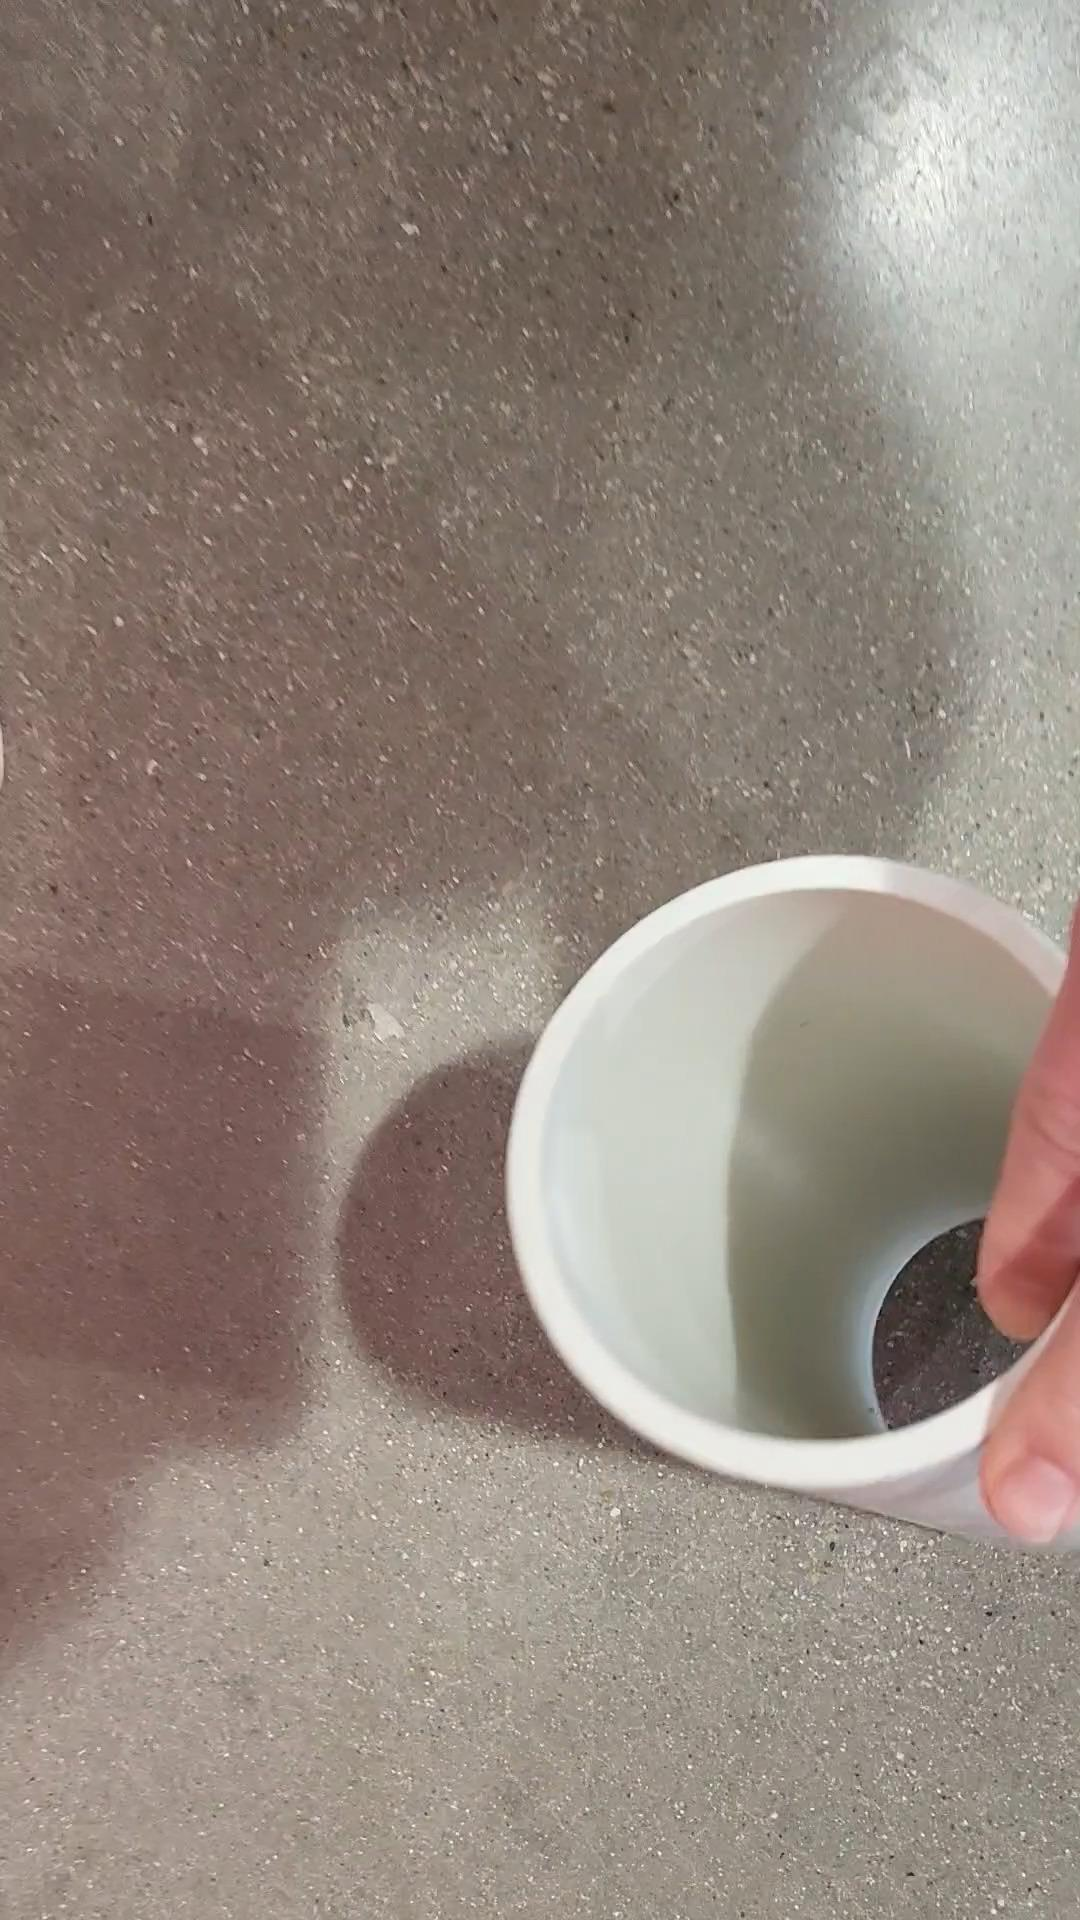coral: (497, 853, 1080, 1545)
